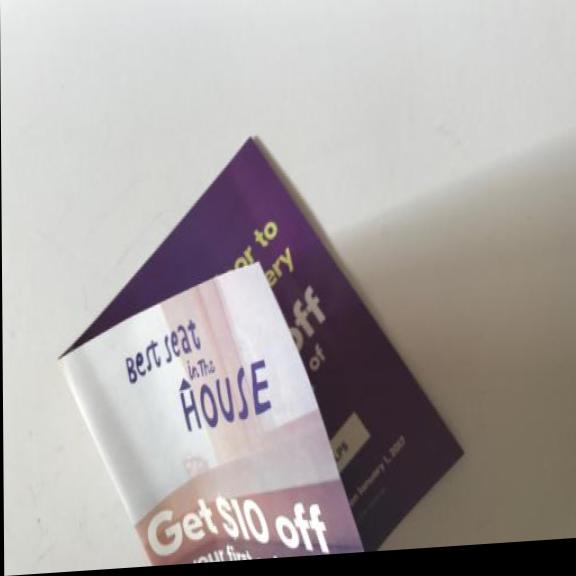Kertas: (49, 110, 470, 571)
